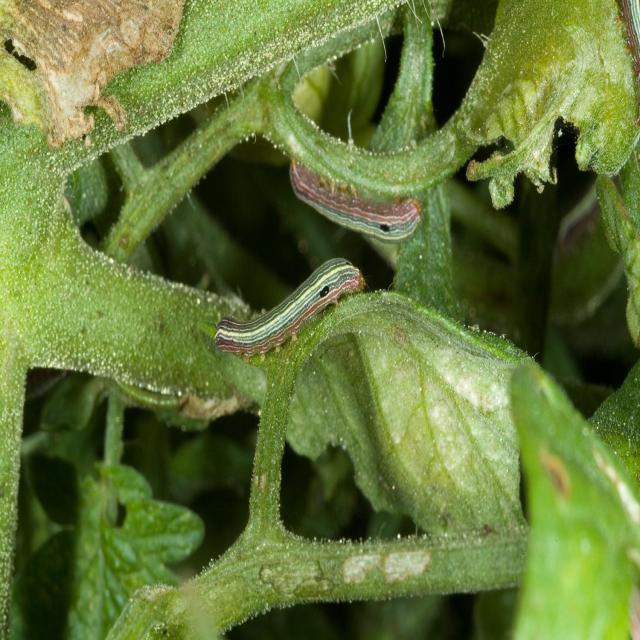army worm: (209, 255, 371, 361), (289, 156, 425, 249)
